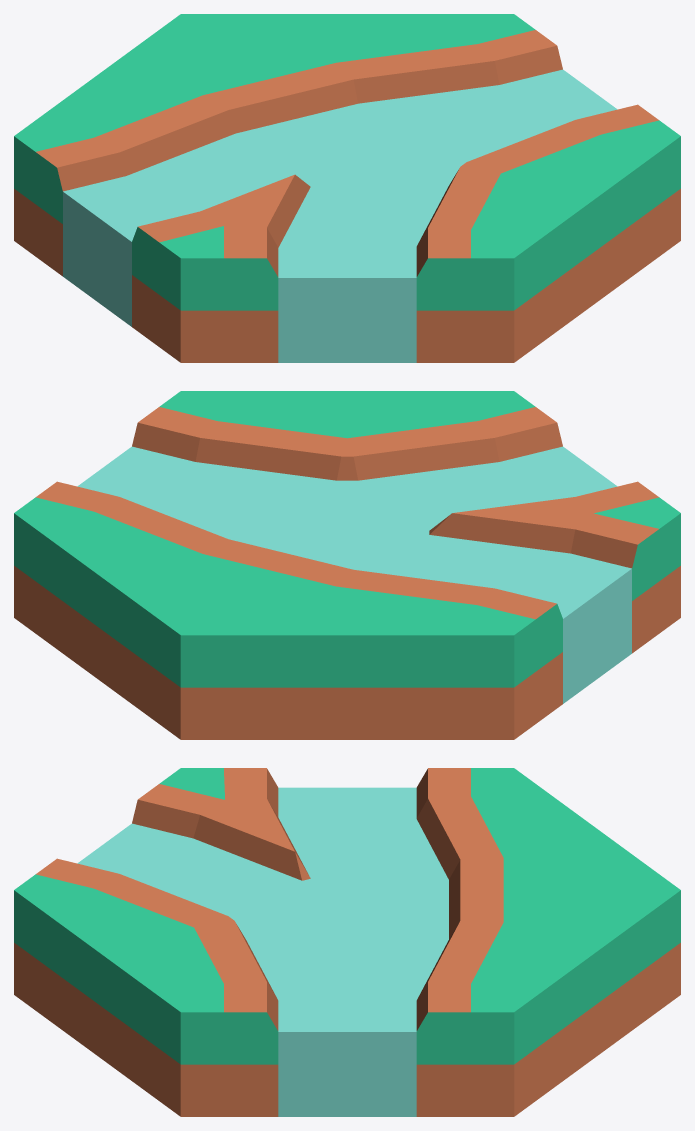
File: river_intersectionC.dae
3 renders of one model, top to bottom at view 1: azimuth 30°, elevation 25°; view 2: azimuth 150°, elevation 25°; view 3: azimuth 270°, elevation 25°, orthographic.
Visible parts, largest first — view 1: river_intersectionC; view 2: river_intersectionC; view 3: river_intersectionC.
Part boxes in pixels (bbox=[...]): river_intersectionC: bbox=[14, 14, 680, 362]; river_intersectionC: bbox=[14, 391, 680, 739]; river_intersectionC: bbox=[14, 768, 680, 1116].
Bounding box in the file's own units: 1 × 0.2 × 1.15.
